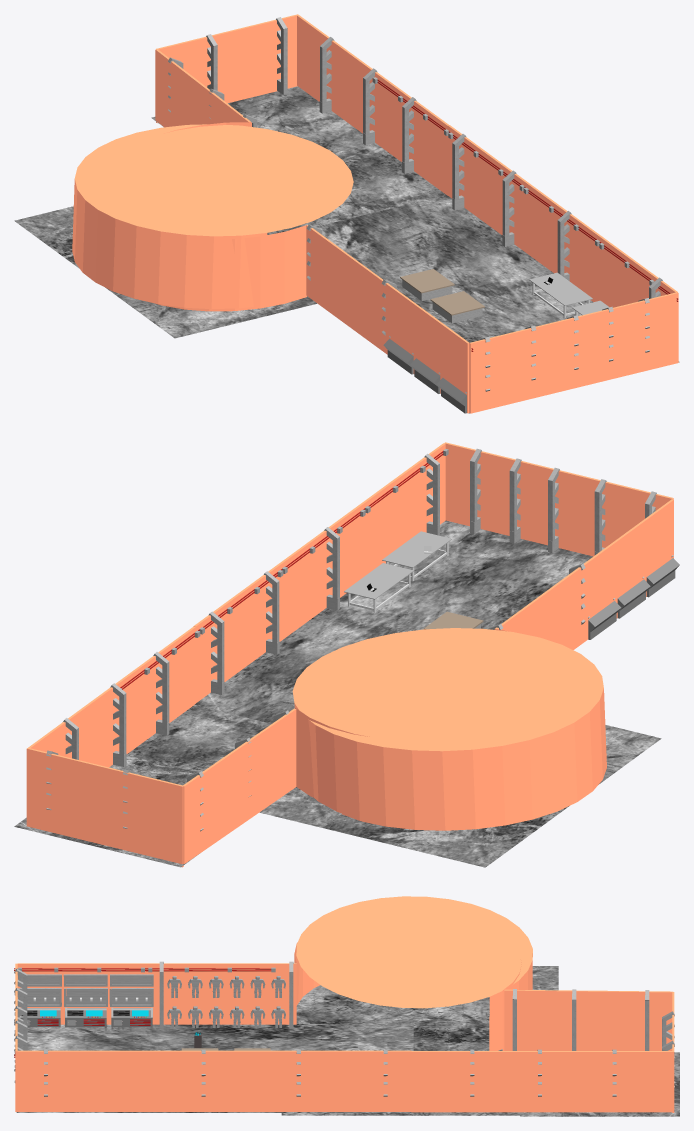
Rendered from Level.fbx.
3 views of the same model, one above another, from view 1: azimuth 30°, elevation 25°; view 2: azimuth 150°, elevation 25°; view 3: azimuth 270°, elevation 25° (orthographic). The views are drawn at different scales.
Parts seen in each view (by area): view 1: supercar_lab_section__1_, FloorA, WallB, WallA, WallC, WallF, WallD, FloorC, FloorB__1_, supercar_lab_section, FloorB, WallE (+3 smaller); view 2: supercar_lab_section__1_, FloorA, WallA, WallD, WallB, WallC, WallE, WallF, FloorB__1_, FloorB, FloorC, supercar_lab_section (+3 smaller); view 3: WallA, supercar_lab_section__1_, WallF, FloorA, WallE, WallC, FloorB__1_, FloorB, FloorC, supercar_lab_section, Cube_8, Cube_9 (+5 smaller).
Boxes of the visible parts, x1,y1,x2,y2 form: supercar_lab_section__1_: [72, 124, 353, 309]; FloorA: [316, 195, 679, 413]; WallB: [469, 292, 678, 413]; WallA: [448, 125, 677, 307]; WallC: [306, 225, 469, 413]; WallF: [297, 15, 449, 195]; WallD: [156, 14, 298, 123]; FloorC: [151, 86, 385, 160]; FloorB__1_: [14, 206, 316, 338]; supercar_lab_section: [156, 122, 306, 311]; FloorB: [267, 150, 445, 234]; WallE: [155, 49, 250, 127]; supercar_lab_section__1_: [292, 628, 606, 830]; FloorA: [194, 520, 592, 723]; WallA: [193, 443, 445, 703]; WallD: [26, 747, 183, 867]; WallB: [444, 442, 673, 556]; WallC: [494, 499, 673, 650]; WallE: [183, 708, 296, 863]; WallF: [28, 626, 195, 767]; FloorB__1_: [323, 725, 661, 867]; FloorB: [126, 705, 341, 827]; FloorC: [14, 755, 198, 867]; supercar_lab_section: [295, 629, 506, 797]; WallA: [17, 1050, 411, 1111]; supercar_lab_section__1_: [296, 896, 532, 1050]; WallF: [411, 1051, 672, 1112]; FloorA: [16, 1024, 413, 1112]; WallE: [504, 989, 672, 1050]; WallC: [17, 963, 296, 1024]; FloorB__1_: [296, 966, 558, 1027]; FloorB: [281, 1027, 520, 1115]; FloorC: [520, 1052, 679, 1116]; supercar_lab_section: [294, 942, 521, 1050]; Cube_8: [112, 991, 151, 1004]; Cube_9: [66, 991, 105, 1004].
Size of the model in its own units: 1763 by 372 by 3201.
